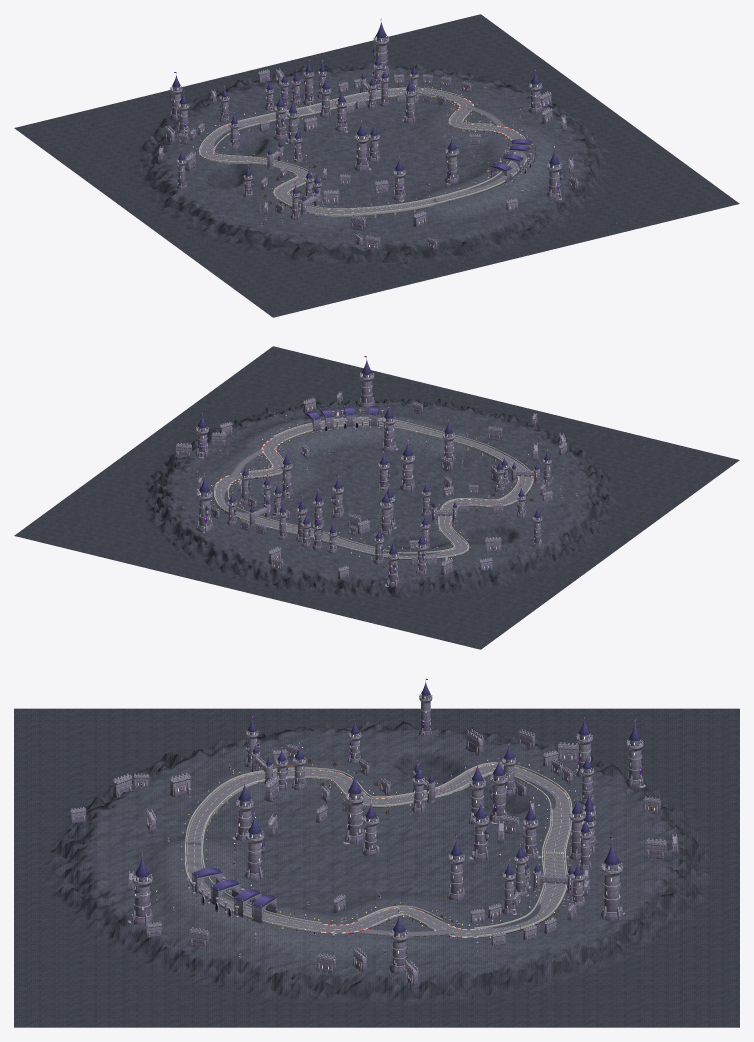
File: fortaleza-tempestade.glb
The picture shows the model from 3 angles, top to bottom: view 1: azimuth 30°, elevation 25°; view 2: azimuth 150°, elevation 25°; view 3: azimuth 270°, elevation 25°; orthographic projection. The views are drawn at different scales.
Visible parts, largest first — view 1: terrain26, terrain18, terrain25, terrain27, terrain12, terrain24, terrain28, terrain0, terrain6, terrain4, terrain15, terrain22 (+43 smaller); view 2: terrain1, terrain6, terrain2, terrain3, terrain12, terrain4, terrain18, terrain24, terrain0, terrain10, terrain25, terrain28 (+41 smaller); view 3: terrain22, terrain10, terrain28, terrain16, terrain4, terrain3, terrain24, terrain27, terrain0, terrain26, terrain2, terrain14 (+50 smaller).
Boxes of the visible parts, x1=… form: terrain26: x1=385, y1=196, x2=520, y2=267; terrain18: x1=163, y1=207, x2=298, y2=273; terrain25: x1=301, y1=223, x2=434, y2=288; terrain27: x1=472, y1=182, x2=606, y2=246; terrain12: x1=114, y1=171, x2=249, y2=237; terrain24: x1=213, y1=244, x2=348, y2=309; terrain28: x1=560, y1=168, x2=692, y2=225; terrain0: x1=14, y1=107, x2=146, y2=164; terrain6: x1=64, y1=136, x2=199, y2=200; terrain4: x1=359, y1=23, x2=494, y2=71; terrain15: x1=375, y1=105, x2=507, y2=165; terrain22: x1=523, y1=126, x2=643, y2=180; terrain1: x1=308, y1=562, x2=443, y2=628; terrain6: x1=444, y1=549, x2=579, y2=613; terrain2: x1=222, y1=541, x2=357, y2=607; terrain3: x1=136, y1=520, x2=271, y2=586; terrain12: x1=501, y1=510, x2=629, y2=576; terrain4: x1=50, y1=508, x2=184, y2=565; terrain18: x1=544, y1=475, x2=679, y2=540; terrain24: x1=594, y1=446, x2=728, y2=503; terrain0: x1=395, y1=590, x2=529, y2=649; terrain10: x1=100, y1=467, x2=235, y2=522; terrain25: x1=508, y1=425, x2=642, y2=477; terrain28: x1=249, y1=362, x2=384, y2=410; terrain22: x1=182, y1=922, x2=321, y2=1002; terrain10: x1=461, y1=928, x2=600, y2=1002; terrain28: x1=43, y1=930, x2=182, y2=1002; terrain16: x1=321, y1=923, x2=461, y2=1002; terrain4: x1=600, y1=931, x2=739, y2=1002; terrain3: x1=600, y1=871, x2=739, y2=943; terrain24: x1=43, y1=708, x2=182, y2=767; terrain27: x1=43, y1=864, x2=182, y2=943; terrain0: x1=600, y1=708, x2=739, y2=767; terrain26: x1=43, y1=813, x2=182, y2=885; terrain2: x1=600, y1=812, x2=739, y2=885; terrain14: x1=321, y1=811, x2=461, y2=873.
Size of what is drawn, in the model's own units: 650 by 86.54 by 625.
27 materials, 14 textured.
